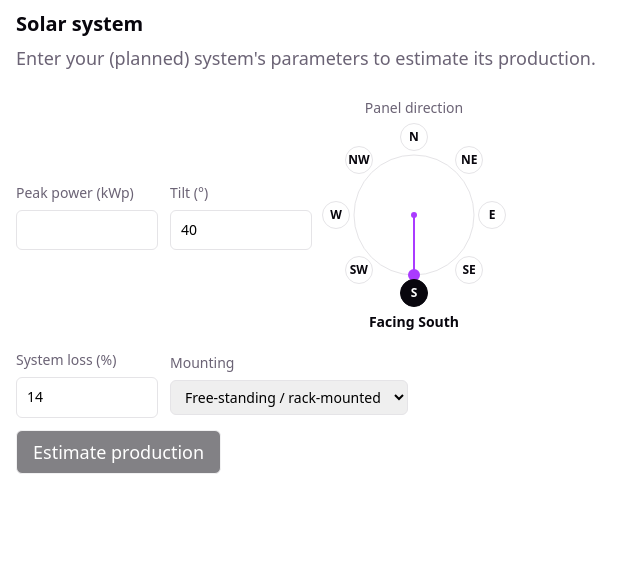
Test: SolarEstimate › shows the backend error message when the estimate fails
In the number field labelled "Peak power (kWp)": {"x": 87, "y": 230} left=16, top=210, right=158, bottom=250, type "5"
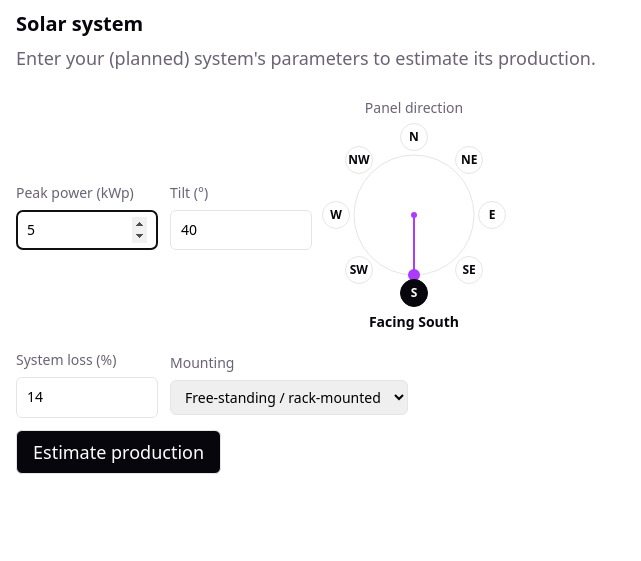
Click the button "Estimate production": {"x": 119, "y": 452} left=16, top=430, right=221, bottom=474
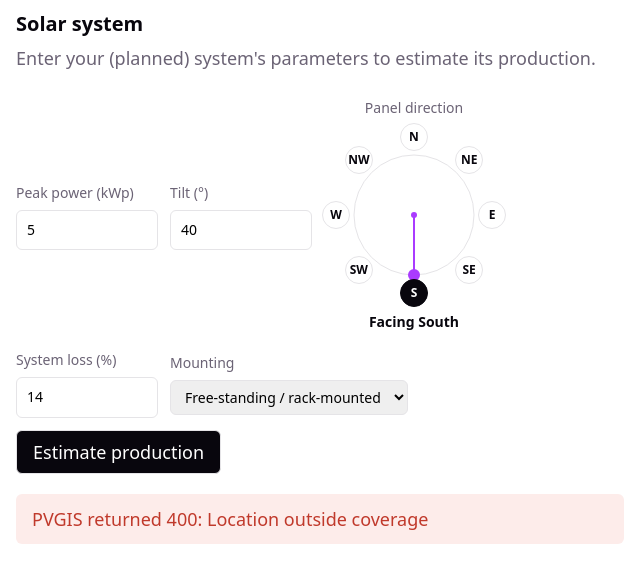
Expected: the text "PVGIS returned 400: Location outside coverage" is shown, left=16, top=494, right=624, bottom=544
